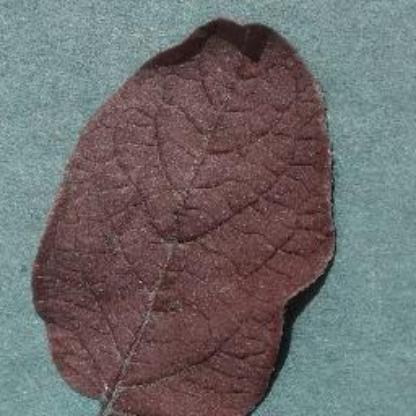Healthy-plant: (34, 10, 406, 412)
